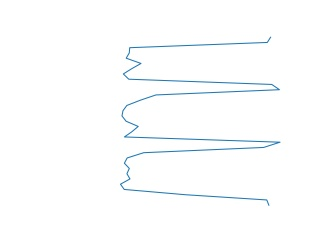majorRiverChannelBar: (118, 37, 285, 208)
